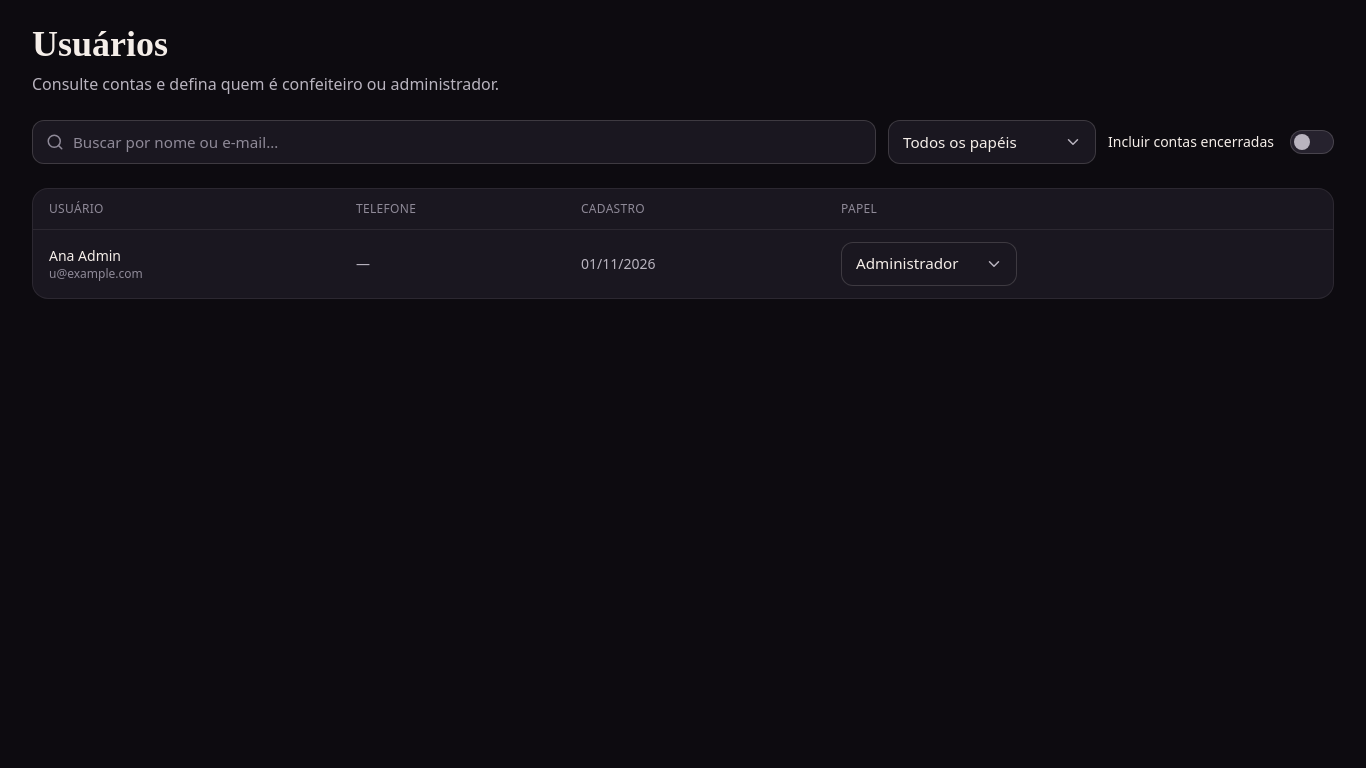
Test: AdminUsersPage › informa quando a alteração deixaria a loja sem administrador
Select "Cliente" in the dropdown named "Papel de Ana Admin" in the row of "Ana Admin" at x=929, y=264, box [841, 242, 1017, 286]
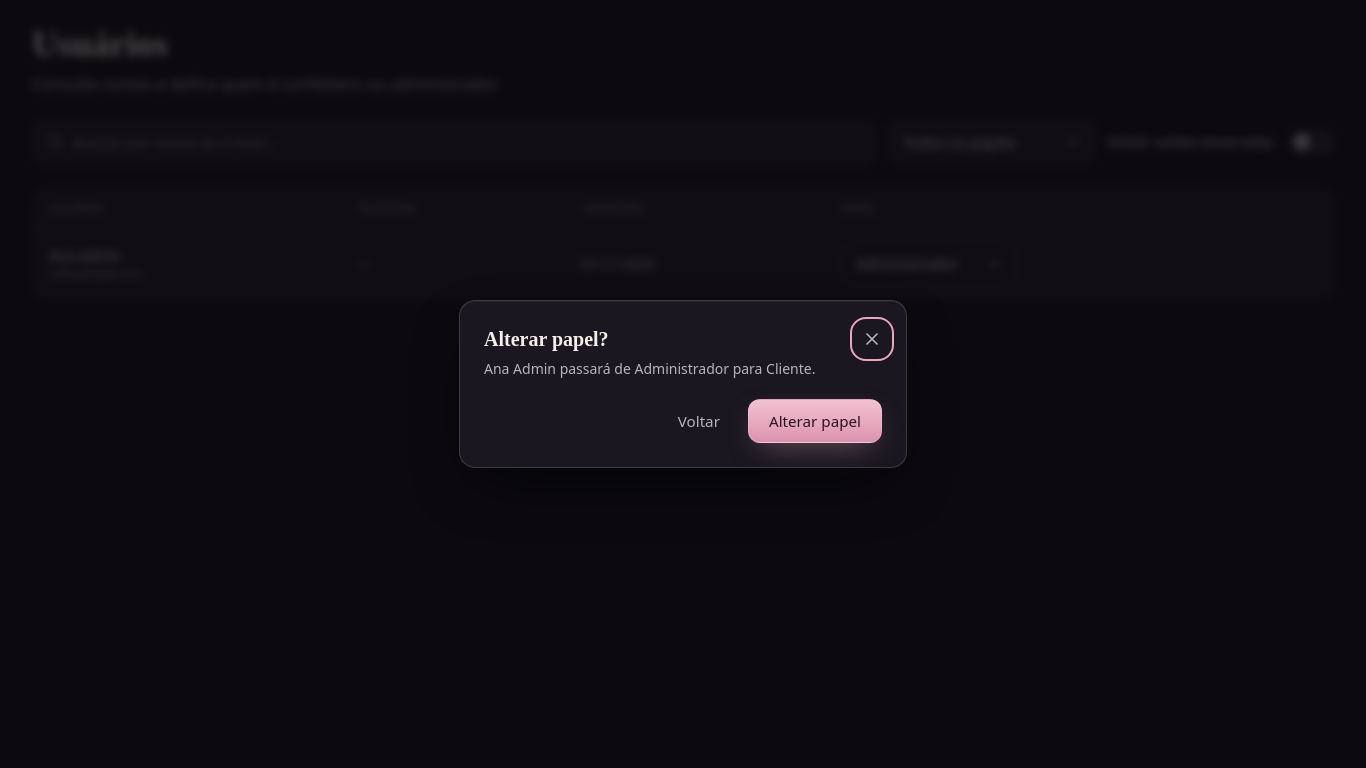
Click the button "Alterar papel" at x=815, y=421, box [748, 399, 882, 443]
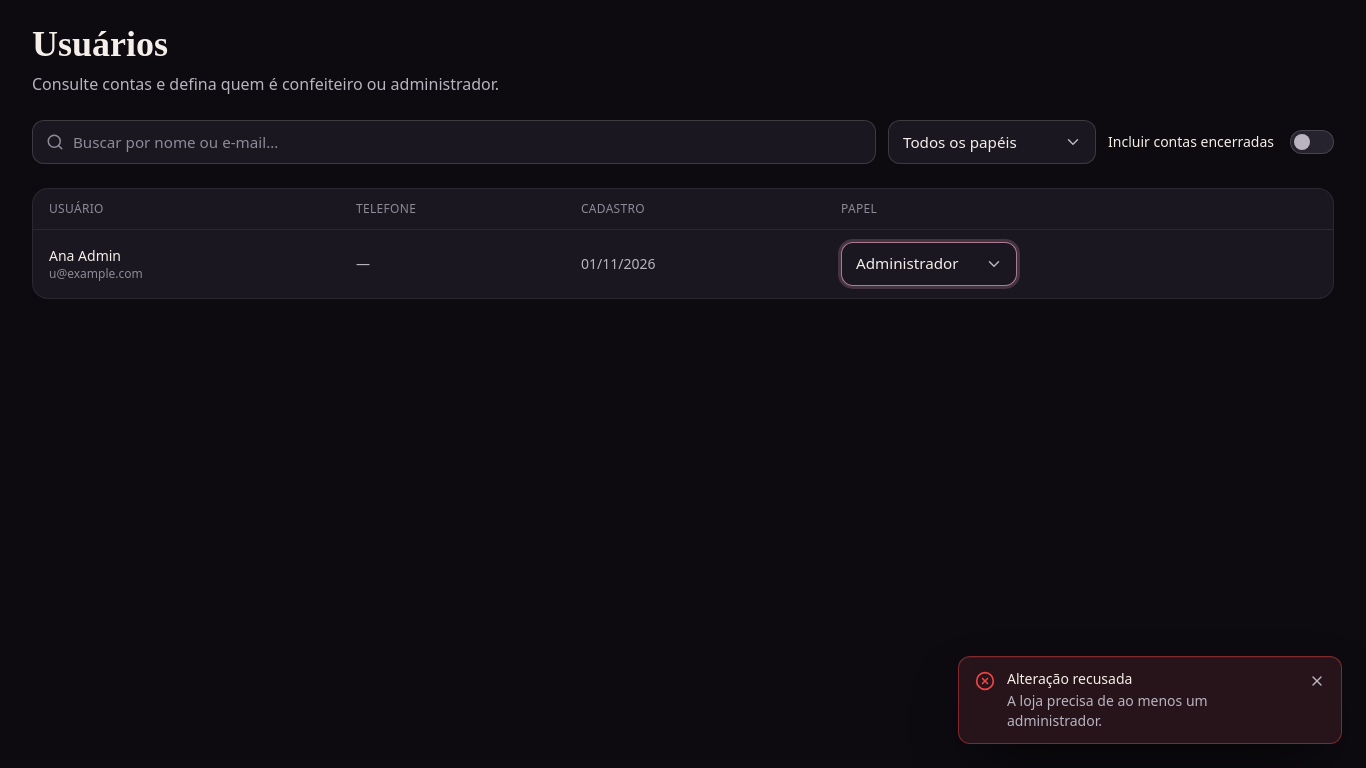
Check: the text "A loja precisa de ao menos um administrador." is shown, box [1007, 691, 1208, 730]
